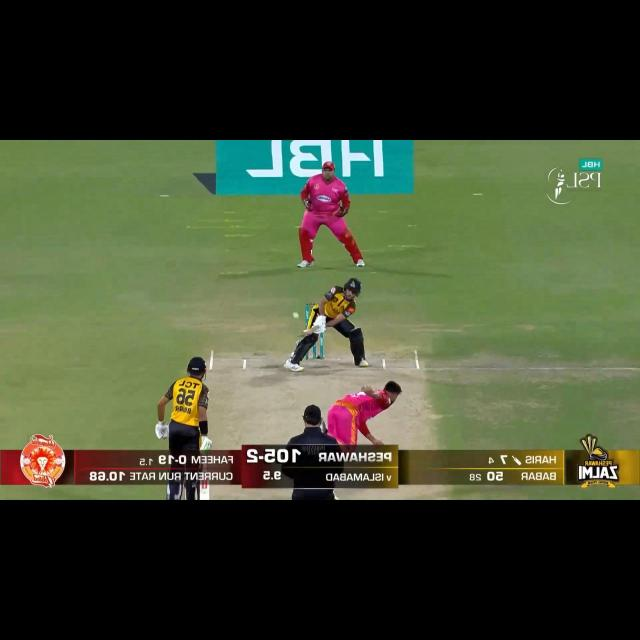bat: (199, 483, 210, 501), (301, 328, 318, 336)
toe: (300, 326, 310, 335)
